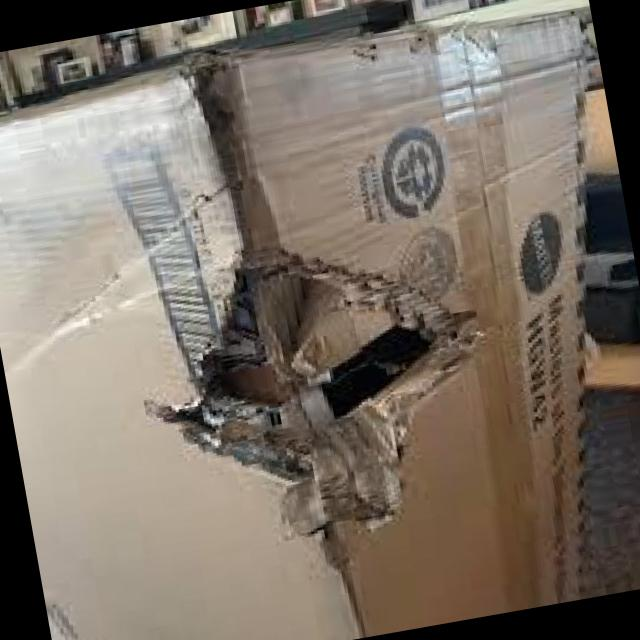box: (0, 11, 584, 640)
crushed: (0, 193, 226, 365), (409, 48, 585, 108)
opened: (146, 242, 478, 552)
